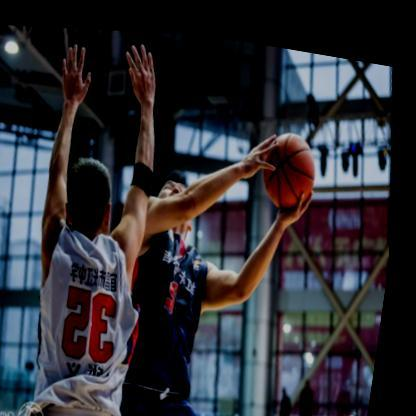basketball: (257, 116, 326, 205)
